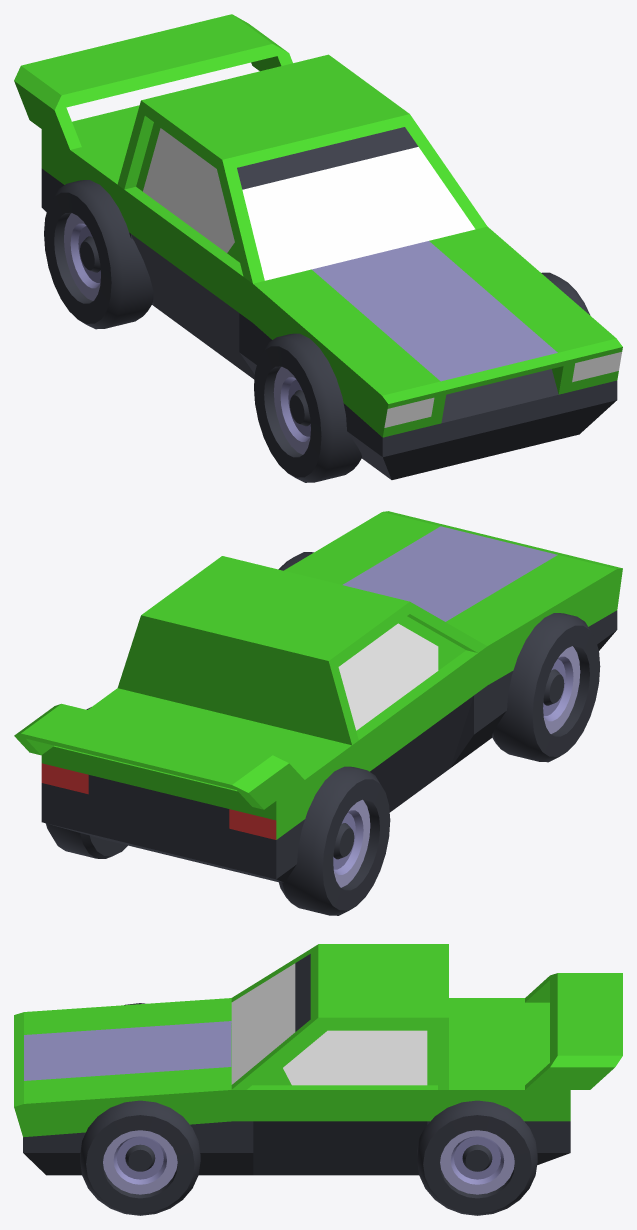
Rendered from race_car2.fbx.
3 views of the same model, one above another, from view 1: azimuth 30°, elevation 25°; view 2: azimuth 150°, elevation 25°; view 3: azimuth 270°, elevation 25° (orthographic). The views are drawn at different scales.
Visible parts, largest first — view 1: mergedBlocks; view 2: mergedBlocks; view 3: mergedBlocks.
Boxes of the visible parts, <box> form: mergedBlocks: <box>14,14,622,482</box>; mergedBlocks: <box>14,511,622,915</box>; mergedBlocks: <box>14,944,622,1215</box>.
Bounding box in the file's own units: 11.95 × 9.28 × 28.
